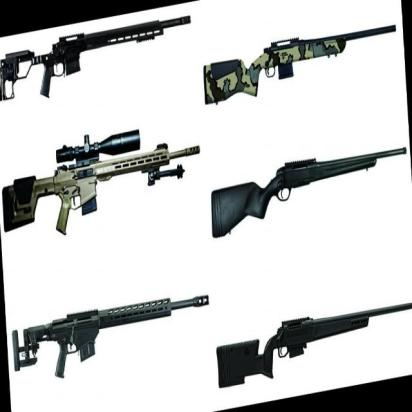Gun: (11, 279, 216, 391), (197, 12, 402, 124), (208, 130, 412, 242), (0, 128, 201, 240), (214, 285, 412, 396), (0, 5, 194, 117)
